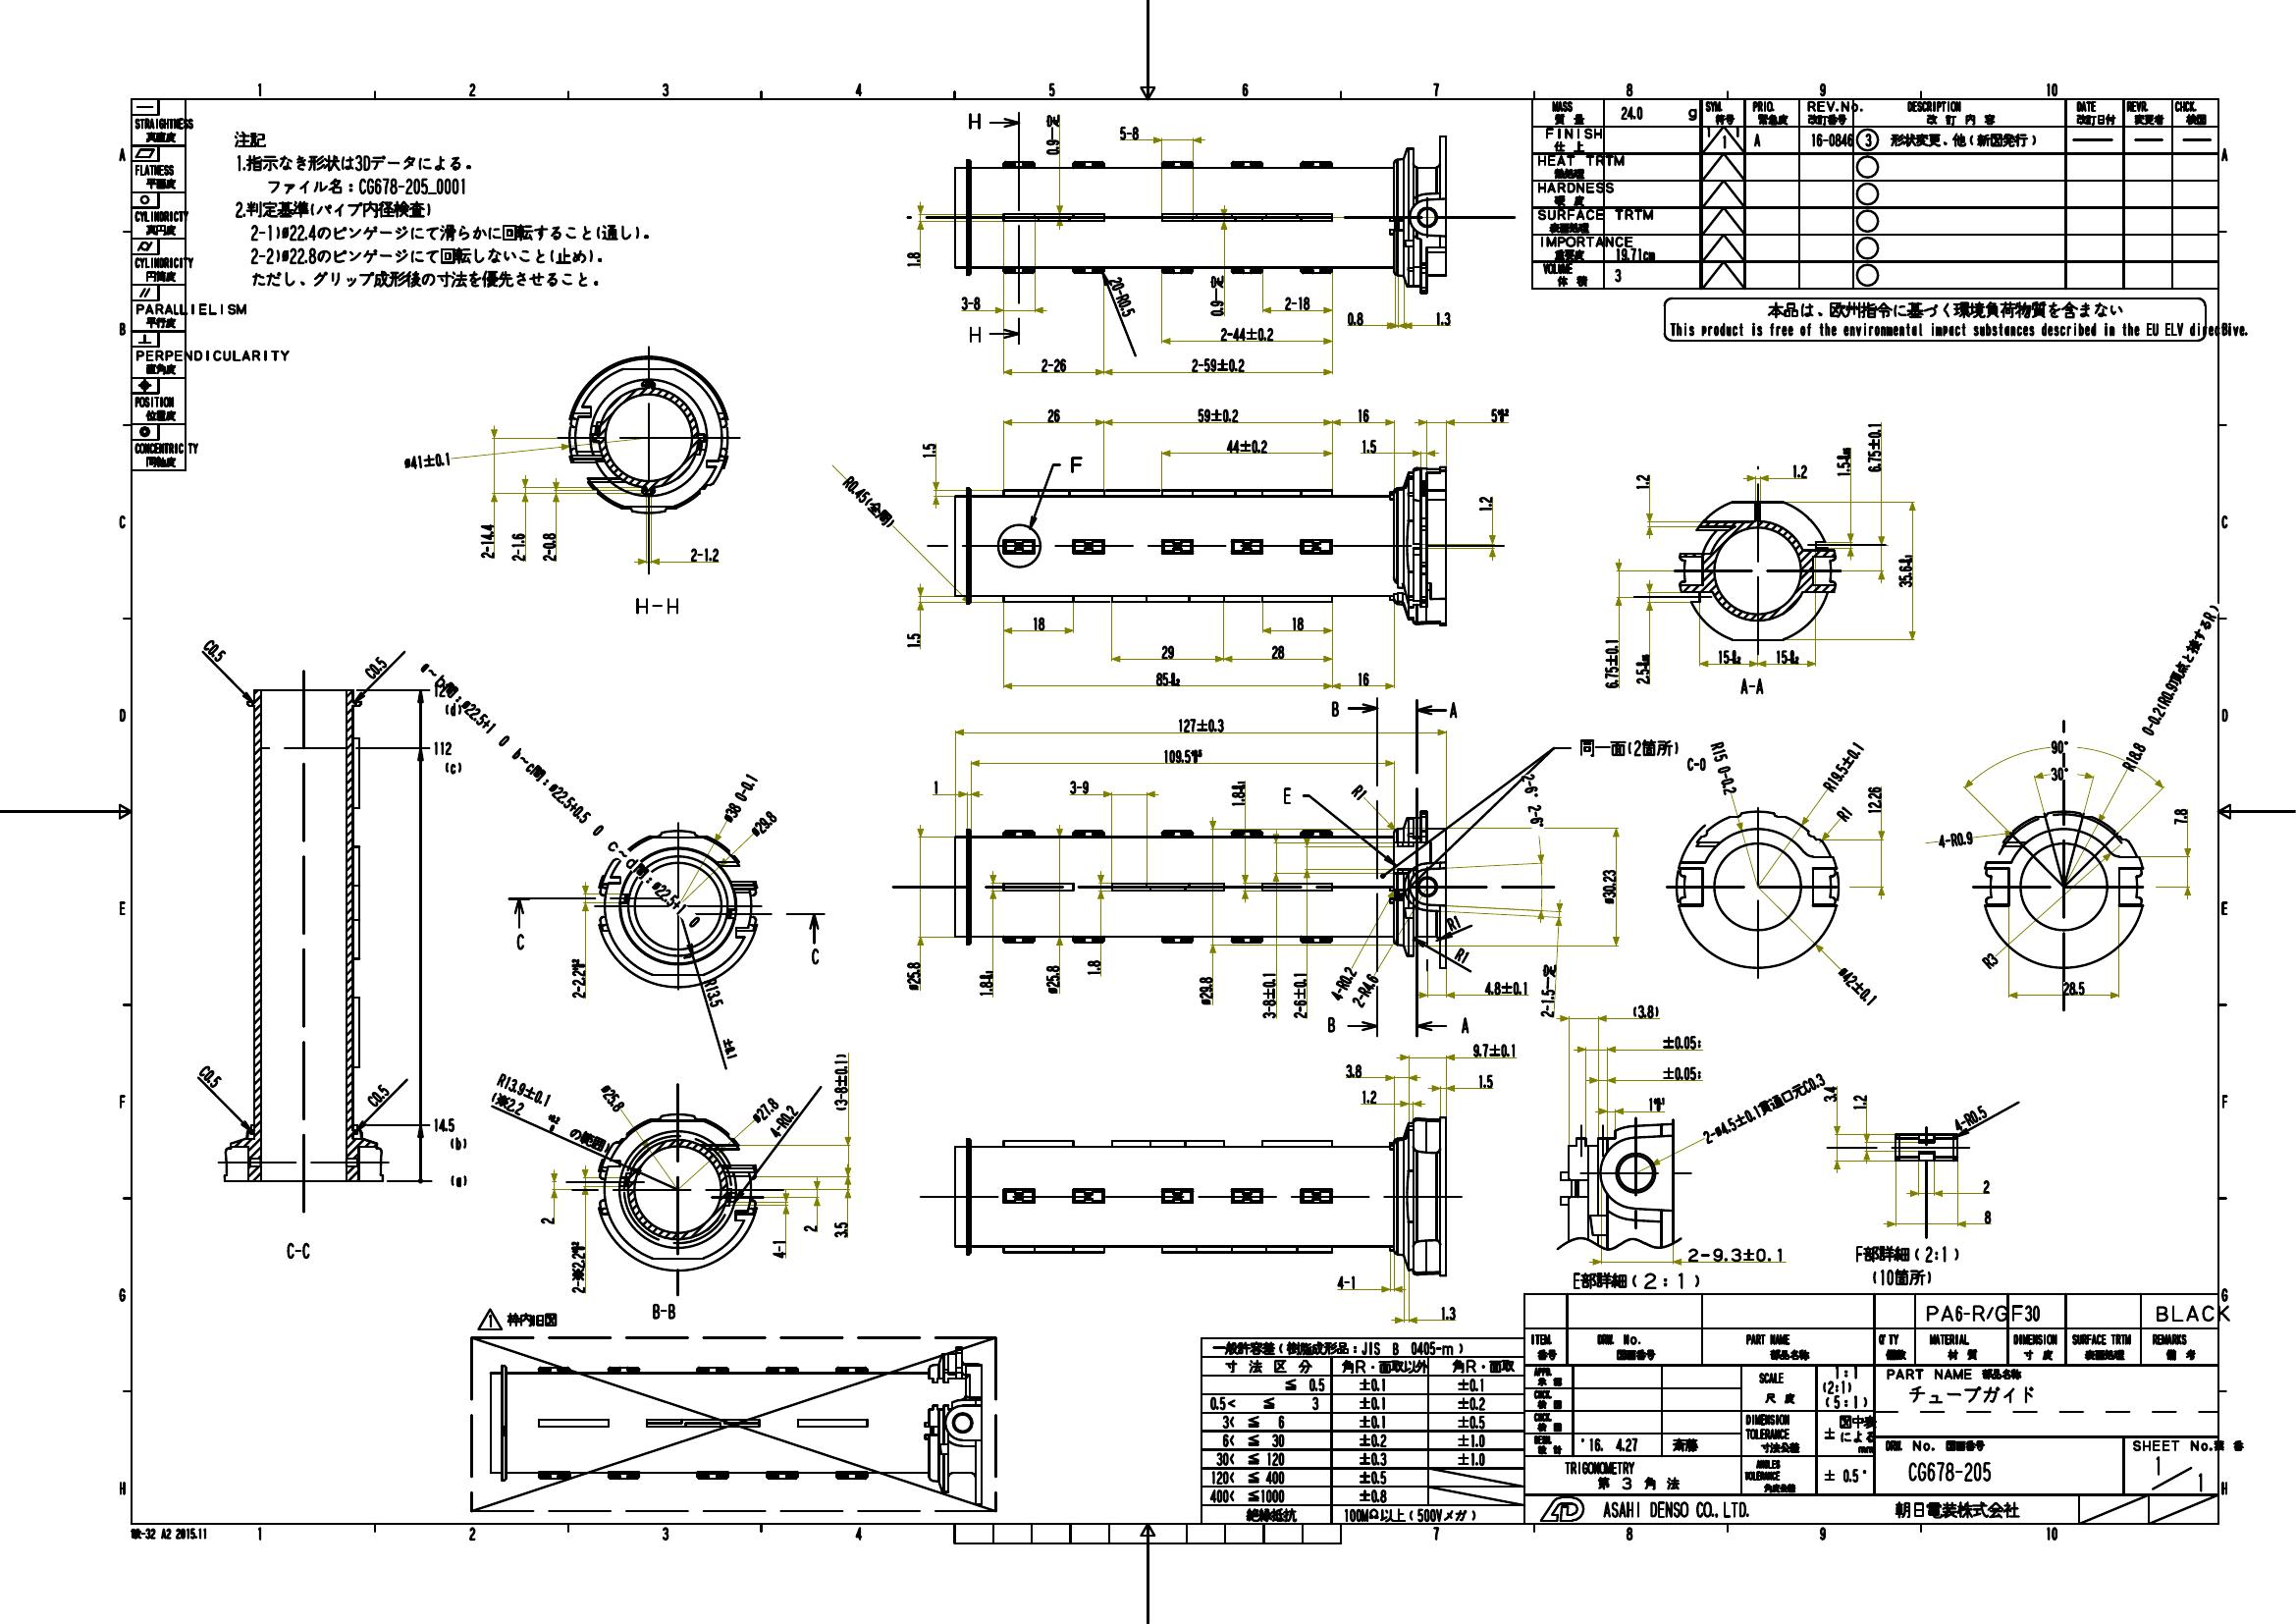anntotation_text: (232, 130, 648, 288), (1664, 297, 2249, 341), (1572, 1271, 1699, 1290), (1579, 738, 1679, 759), (1853, 1244, 1959, 1264), (487, 1114, 615, 1130), (476, 1308, 559, 1330), (1871, 1269, 1932, 1287), (634, 594, 680, 615), (130, 1527, 207, 1538), (1739, 677, 1765, 694), (286, 1241, 309, 1258), (443, 759, 464, 777), (652, 1302, 675, 1318), (444, 701, 462, 719), (1685, 758, 1706, 772), (448, 1135, 466, 1151), (966, 112, 980, 130), (450, 1174, 466, 1188), (1070, 455, 1082, 473), (968, 325, 980, 343), (810, 947, 820, 965), (1448, 700, 1458, 717), (1282, 786, 1291, 803), (1460, 1016, 1469, 1033), (1330, 700, 1339, 717), (515, 933, 523, 949), (1326, 1016, 1335, 1032)
dimension_text: (369, 784, 748, 800), (2076, 680, 2266, 696), (1693, 1100, 1830, 1116), (1685, 1246, 1783, 1262), (680, 1011, 762, 1028), (567, 1241, 587, 1294), (833, 1051, 848, 1111), (494, 1081, 553, 1097), (711, 789, 769, 805), (1693, 759, 1751, 775), (836, 494, 899, 508), (1191, 357, 1245, 373), (1866, 420, 1881, 475), (1813, 759, 1873, 773), (1541, 965, 1556, 1018), (1602, 636, 1618, 689), (1209, 271, 1226, 318), (1261, 972, 1279, 1018), (1221, 327, 1275, 341), (1291, 972, 1307, 1018), (1179, 715, 1224, 731), (569, 958, 587, 998), (1662, 1033, 1702, 1051), (1472, 1040, 1516, 1056), (1043, 112, 1059, 156), (402, 453, 451, 468), (1832, 445, 1852, 480), (1196, 406, 1238, 422), (1660, 1065, 1702, 1081), (1100, 290, 1144, 304), (1224, 439, 1268, 453), (1895, 554, 1913, 589), (1600, 866, 1616, 905), (1325, 975, 1361, 991), (1952, 1109, 1989, 1125), (1163, 749, 1203, 763), (762, 1114, 803, 1128), (1483, 981, 1528, 993), (1347, 982, 1383, 998), (1525, 801, 1546, 828), (1938, 831, 1973, 847), (1521, 772, 1541, 798), (748, 816, 780, 831), (1634, 652, 1650, 684), (748, 1102, 780, 1118), (480, 524, 494, 559), (1866, 786, 1883, 814), (1198, 974, 1214, 1004), (905, 960, 921, 990), (597, 1090, 627, 1106), (1040, 355, 1066, 373), (539, 533, 555, 561), (511, 533, 527, 561), (1630, 1002, 1658, 1018), (1282, 295, 1310, 311), (197, 1069, 221, 1086), (957, 294, 982, 311), (1045, 963, 1059, 993), (977, 968, 993, 995), (1230, 780, 1245, 807), (1715, 647, 1741, 663), (2048, 763, 2069, 782), (365, 1086, 390, 1102), (202, 642, 227, 657), (1776, 649, 1801, 664), (2048, 738, 2069, 756), (1117, 125, 1140, 141), (771, 1237, 787, 1260), (1154, 671, 1179, 685), (690, 548, 718, 561), (1646, 1095, 1665, 1113), (1344, 1060, 1363, 1077), (1360, 1086, 1379, 1104), (905, 248, 921, 269), (362, 661, 388, 673), (432, 1118, 455, 1132), (430, 740, 453, 754), (1790, 462, 1808, 480), (1490, 406, 1509, 422), (1346, 309, 1365, 325), (1337, 1274, 1356, 1290), (2062, 981, 2085, 993), (1455, 947, 1470, 965), (1632, 473, 1650, 489), (1433, 309, 1451, 325), (1070, 780, 1089, 794), (833, 1220, 847, 1239), (1351, 784, 1367, 800), (1446, 916, 1462, 932), (1836, 807, 1852, 823), (1440, 1304, 1456, 1320), (1086, 958, 1100, 975), (1477, 1070, 1491, 1088), (2173, 807, 2187, 824), (1823, 1084, 1836, 1104), (1361, 438, 1375, 453), (1031, 615, 1045, 631), (921, 443, 936, 457), (905, 633, 921, 647), (1852, 1093, 1866, 1109), (432, 682, 446, 698), (1479, 496, 1493, 510), (1270, 643, 1284, 657), (1159, 645, 1173, 659), (1047, 408, 1059, 424), (801, 1223, 819, 1234), (1356, 671, 1370, 684), (1358, 408, 1368, 422), (1293, 617, 1303, 631), (539, 1216, 555, 1225), (1982, 1179, 1990, 1193), (1983, 1207, 1990, 1223), (931, 780, 938, 794)
object: (950, 464, 1448, 629), (221, 687, 385, 1183), (488, 1345, 982, 1506), (954, 808, 1448, 970), (952, 135, 1448, 295), (954, 1118, 1448, 1278), (597, 828, 759, 990), (1982, 808, 2143, 968), (1676, 810, 1839, 968), (597, 1113, 757, 1272), (567, 355, 729, 513), (1678, 501, 1836, 642), (1556, 1120, 1679, 1250), (1895, 1134, 1959, 1160)
title_block: (1200, 1292, 2219, 1526), (1530, 97, 2220, 290), (130, 97, 186, 473)
